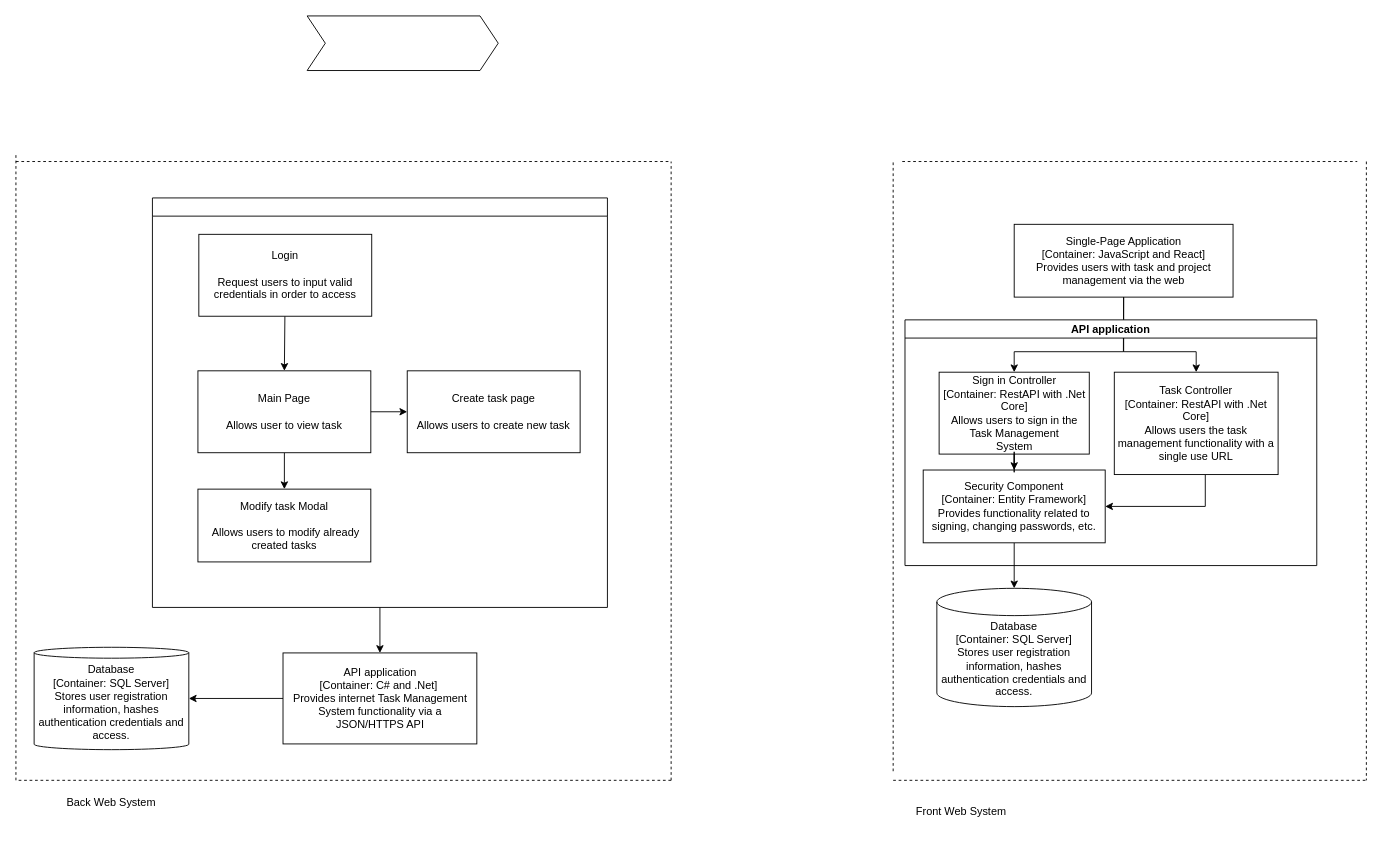
The diagram is 1383 pixels wide and 842 high, and some of its shapes have lost their labels. The shapes that lost their labels are listed below. From the top down, each one's centre as x and y in pixels, then its label:
pixel 402 43: Level 3
pixel 379 402: Single-Page Application
